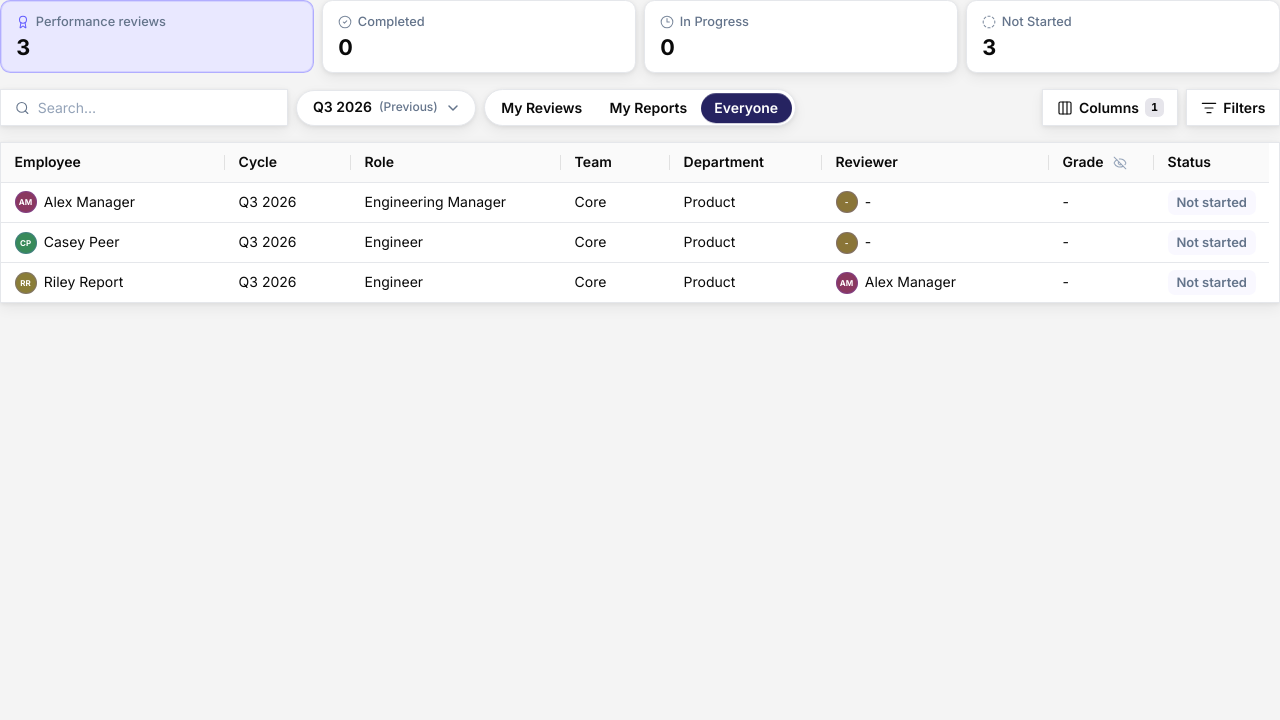
Scenario: ScorecardsList › hides optional columns from the Columns menu
Expected: the link "Casey Peer" is shown, [44,233,119,252]
Expected: the column heading "Role" is shown, [351,143,561,182]
What coordinates should you click on to do the following:
click the button with aria-label "Columns, 1 hidden"
I would click on:
 (1110, 108)
Its box is [1042,89,1178,126].
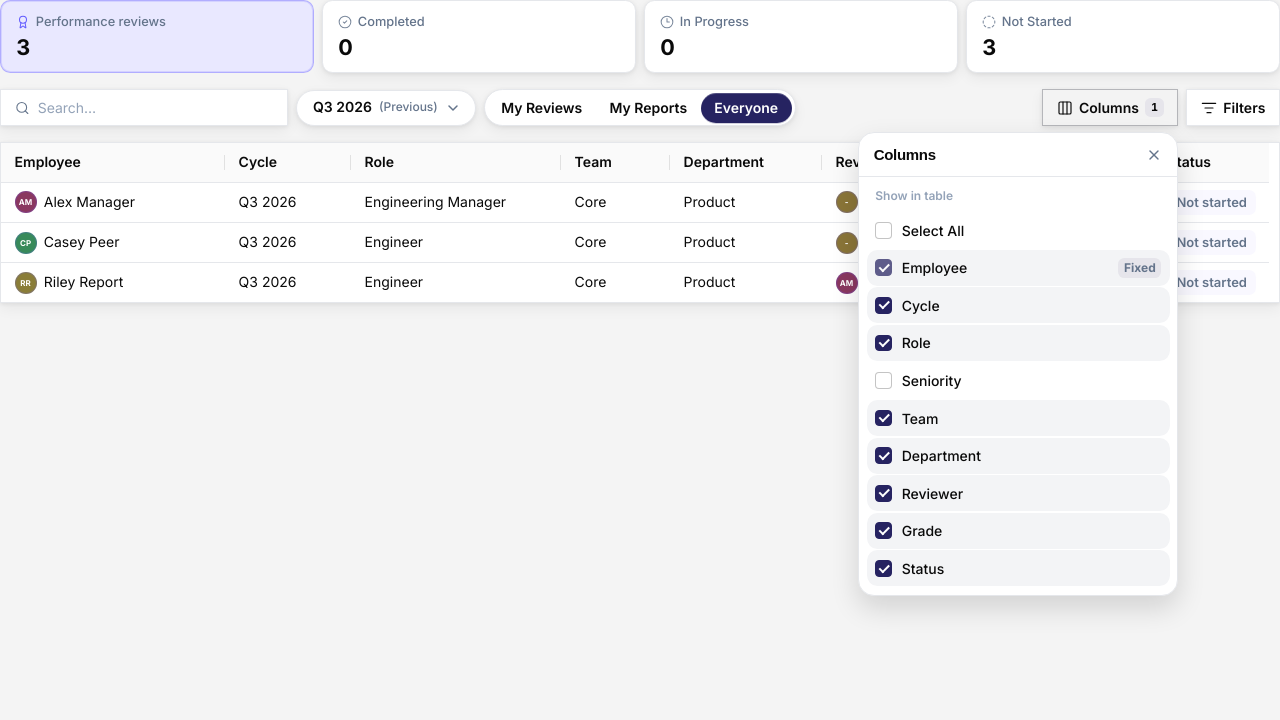
What coordinates should you click on to do the following:
click the option "Role"
I would click on:
 (884, 343)
Its box is [866,325,1170,361].
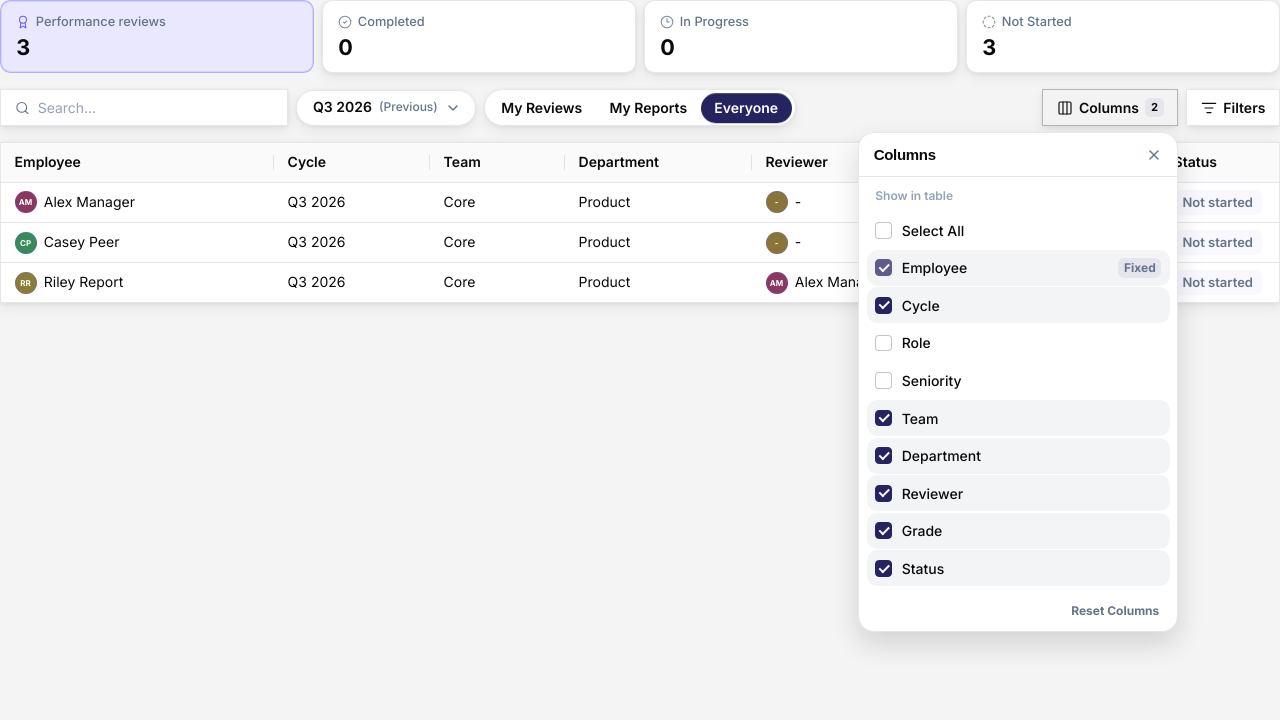
Expected: the button with aria-label "Columns, 2 hidden" is shown, [1042,89,1178,126]
